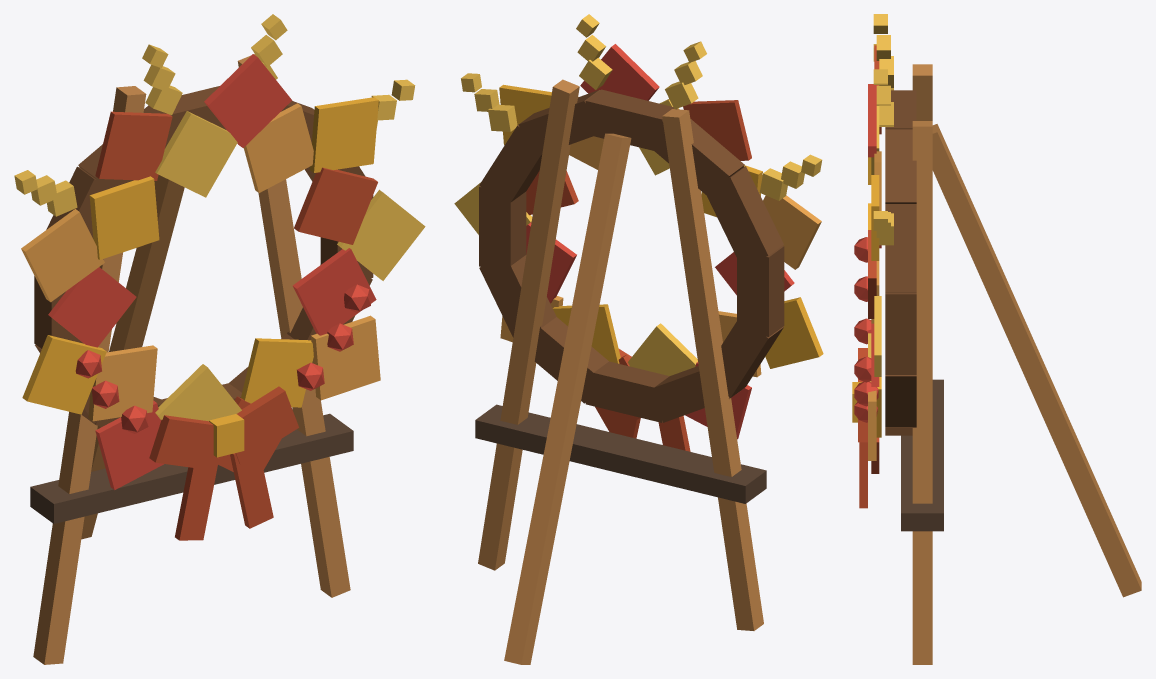
The model's file is CatCafe_Decor_HarvestWreath.glb.
3 views of the same model, side by side, from view 1: azimuth 30°, elevation 25°; view 2: azimuth 150°, elevation 25°; view 3: azimuth 270°, elevation 25° (orthographic). The views are drawn at different scales.
Visible parts, largest first — view 1: CatCafe_Decor_HarvestWreath; view 2: CatCafe_Decor_HarvestWreath; view 3: CatCafe_Decor_HarvestWreath.
Boxes of the visible parts, x1,y1,x2,y2 form: CatCafe_Decor_HarvestWreath: (14,14,425,664); CatCafe_Decor_HarvestWreath: (454,14,823,664); CatCafe_Decor_HarvestWreath: (852,14,1141,664).
Bounding box in the file's own units: 2.96 × 4.29 × 2.02.
Materials: 1 (1 with a texture image).
